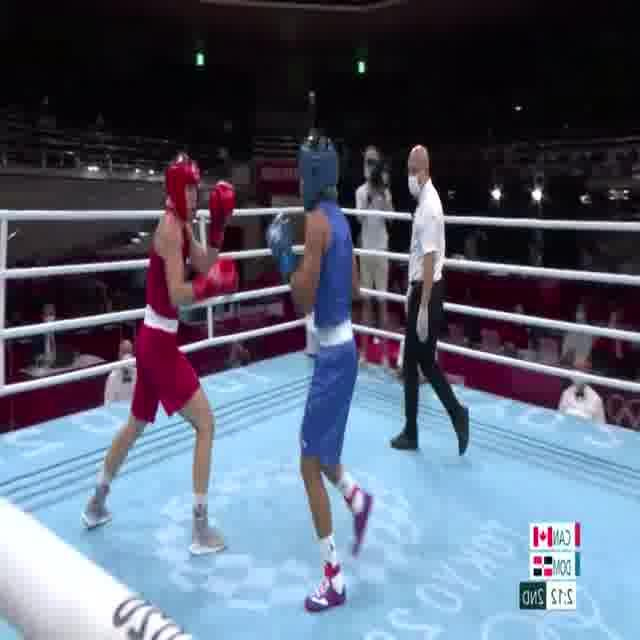blue-player: (267, 131, 367, 617)
red-player: (80, 153, 242, 559)
referee: (384, 142, 474, 458)
